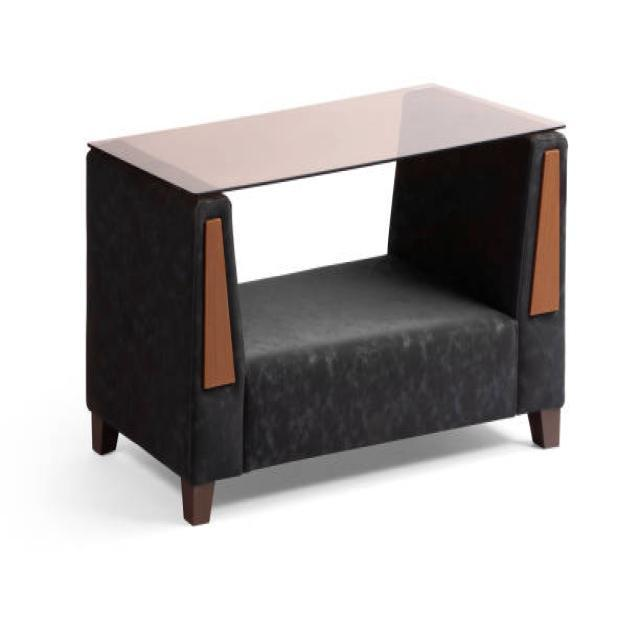table: (85, 80, 568, 526)
